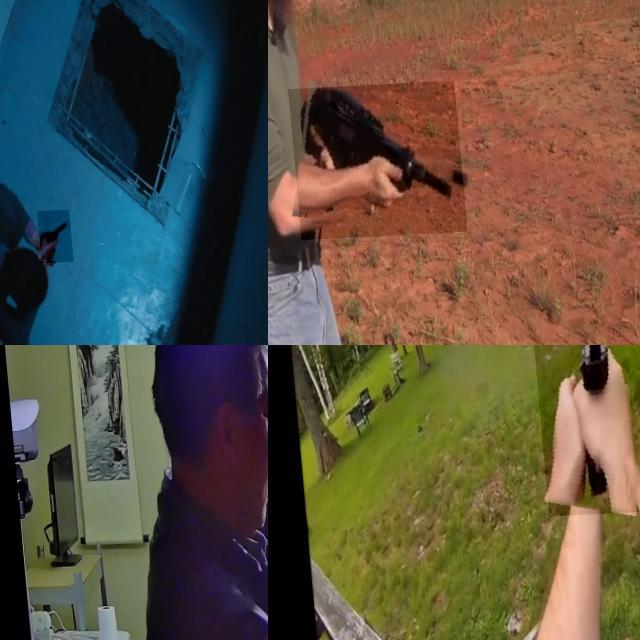gun-knife-thesis - v11 Yolov5 augmented: (283, 85, 460, 243), (521, 345, 640, 519), (30, 213, 66, 266)
